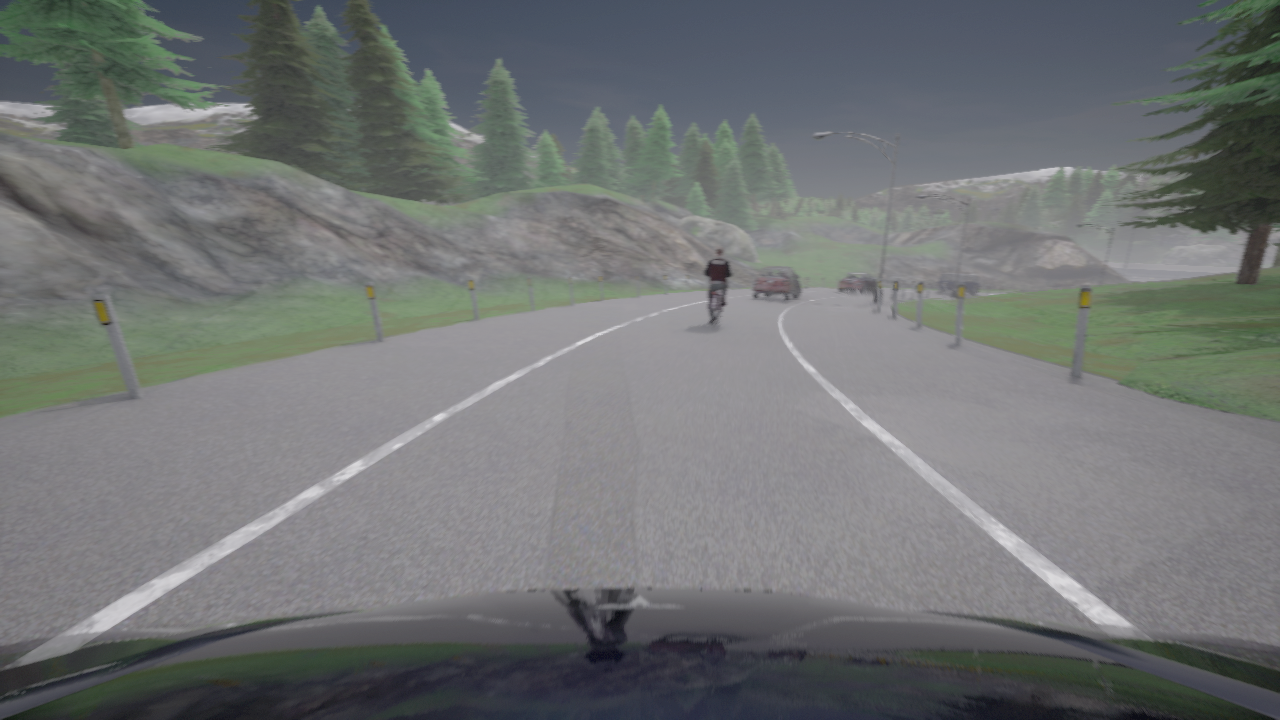cyclist: (0, 588, 1279, 719), (752, 266, 800, 300), (936, 273, 981, 294), (838, 273, 877, 293), (709, 290, 722, 329)
